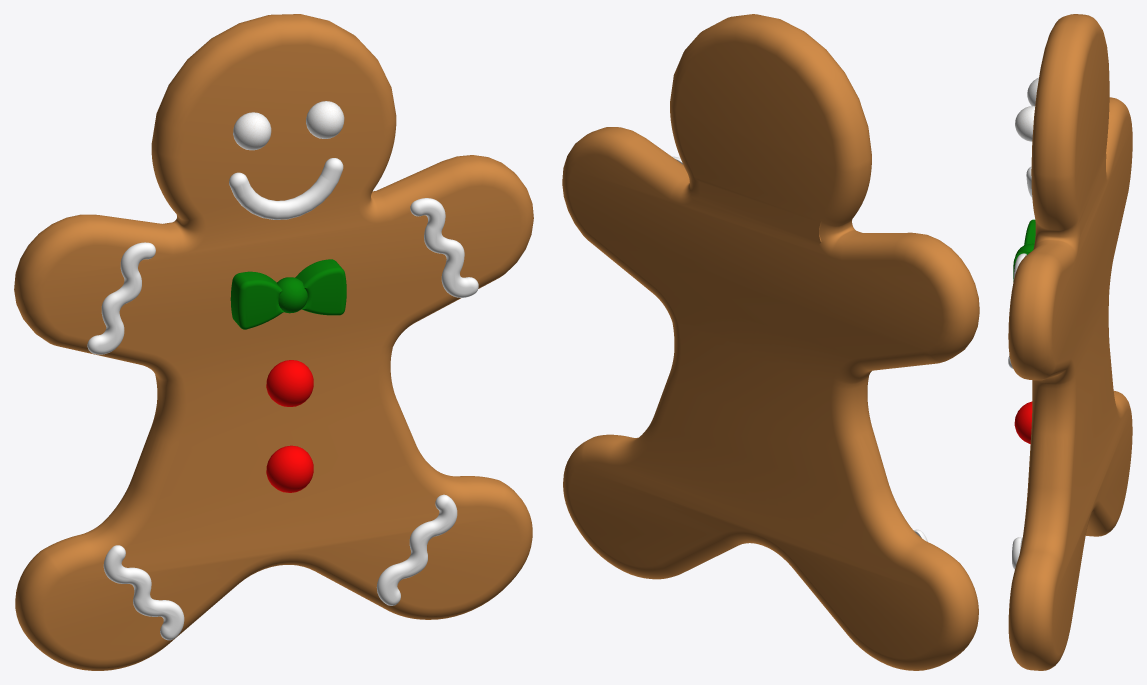
File: Gingerbread.dae
3 views of the same model, side by side, from view 1: azimuth 30°, elevation 25°; view 2: azimuth 150°, elevation 25°; view 3: azimuth 270°, elevation 25° (orthographic). The views are drawn at different scales.
Parts seen in each view (by area): view 1: Gingerbread (×3), ka (×4), mäscheli (×3), mund, auge (×2); view 2: Gingerbread; view 3: Gingerbread (×2), auge (×2), ka, mäscheli.
Part boxes in pixels (x1,y1,x2,y2): Gingerbread (×3): [14, 14, 533, 670]; ka (×4): [87, 198, 478, 640]; mäscheli (×3): [230, 259, 346, 329]; mund: [229, 158, 343, 219]; auge (×2): [233, 101, 344, 150]; Gingerbread: [562, 14, 979, 670]; Gingerbread (×2): [1008, 14, 1132, 670]; auge (×2): [1015, 77, 1038, 141]; ka: [1012, 537, 1022, 569]; mäscheli: [1024, 219, 1035, 245].
Size of the model in its own units: 31.19 by 7.83 by 39.56.
